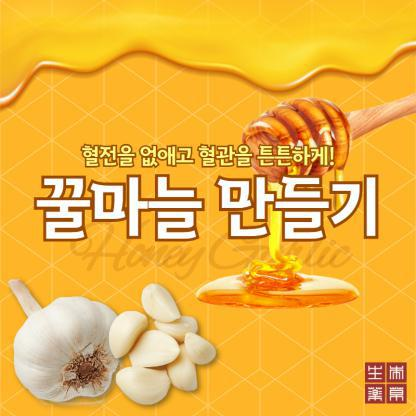garlic: (8, 283, 111, 403), (121, 370, 174, 408), (107, 304, 143, 353), (131, 330, 180, 366), (141, 284, 182, 324), (158, 306, 202, 338), (172, 340, 196, 394), (182, 330, 218, 364)
